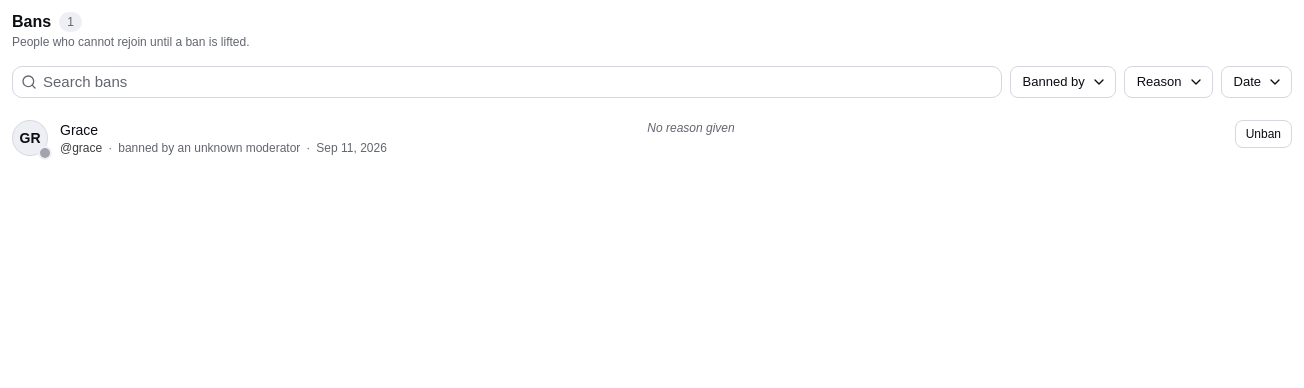
Test: BansPage › tells a server with no bans from a filter that matched none
This screenshot has width=1304, height=388.
Expected: the text "Grace" is shown, [60, 122, 98, 138]
Step 1. Type "zzz" into the dropdown named "Search bans by @username, name or reason" → (519, 82), box [41, 67, 996, 97]
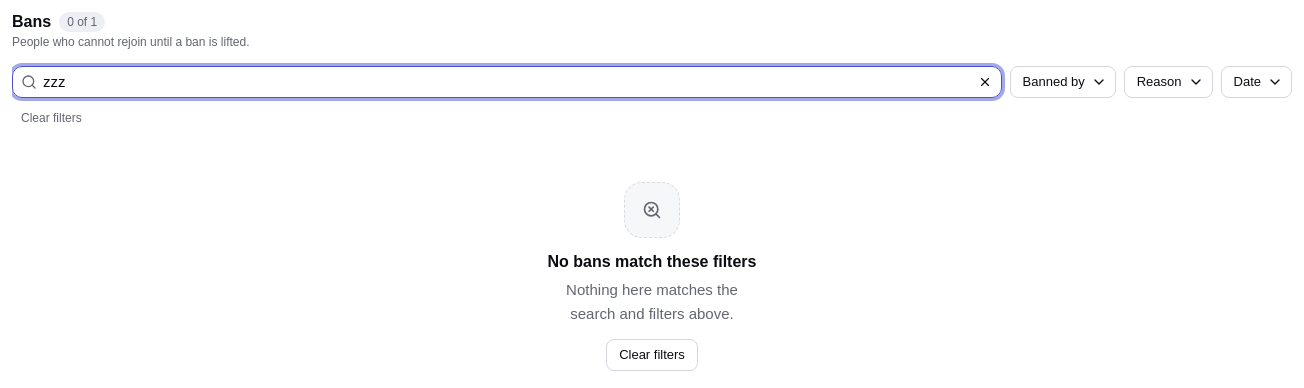
Result: the text "No bans match these filters" is shown at [548, 253, 756, 270]
